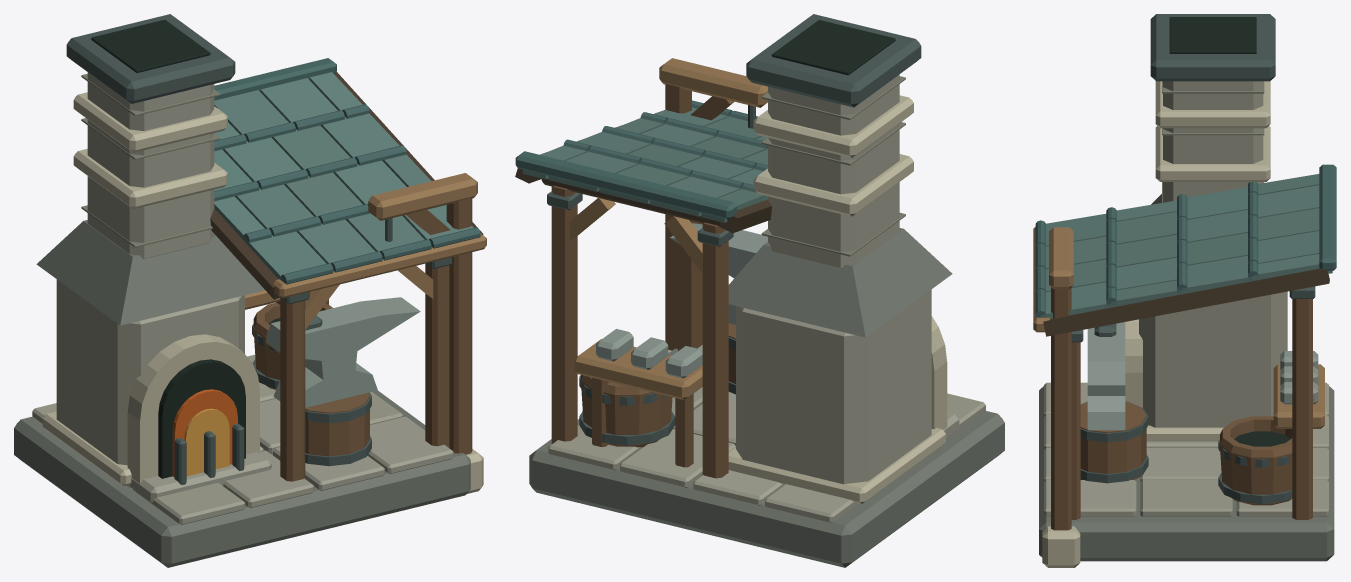
Rendered from smithy_2.glb.
3 renders of one model, left to right at view 1: azimuth 30°, elevation 25°; view 2: azimuth 150°, elevation 25°; view 3: azimuth 270°, elevation 25°, orthographic. The views are drawn at different scales.
Visible parts, largest first — view 1: Stone, Roof, Timber, Metal; view 2: Stone, Timber, Roof, Metal; view 3: Stone, Roof, Timber, Metal.
Part boxes in pixels (<box>): Stone: <box>14,19,483,567</box>; Roof: <box>214,58,480,284</box>; Timber: <box>210,72,486,481</box>; Metal: <box>66,14,451,484</box>; Stone: <box>529,20,1004,567</box>; Timber: <box>515,58,771,478</box>; Roof: <box>515,100,767,222</box>; Metal: <box>547,14,921,445</box>; Stone: <box>1039,17,1334,567</box>; Roof: <box>1035,164,1336,318</box>; Timber: <box>1033,227,1329,530</box>; Metal: <box>1071,14,1318,503</box>.
Size of the model in its own units: 2.85 by 3.72 by 2.43.
